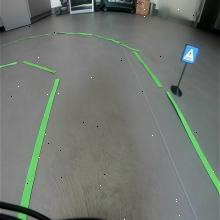crosswalk: (180, 44, 200, 65)
